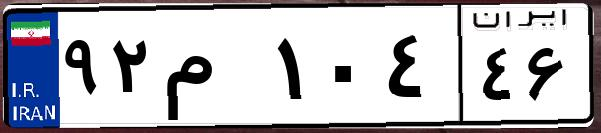0: (330, 28, 385, 110)
1: (270, 28, 330, 110)
2: (110, 28, 158, 98)
4: (385, 28, 445, 110), (475, 38, 525, 113)
6: (525, 38, 570, 115)
9: (57, 26, 110, 100)
م: (158, 20, 270, 120)
